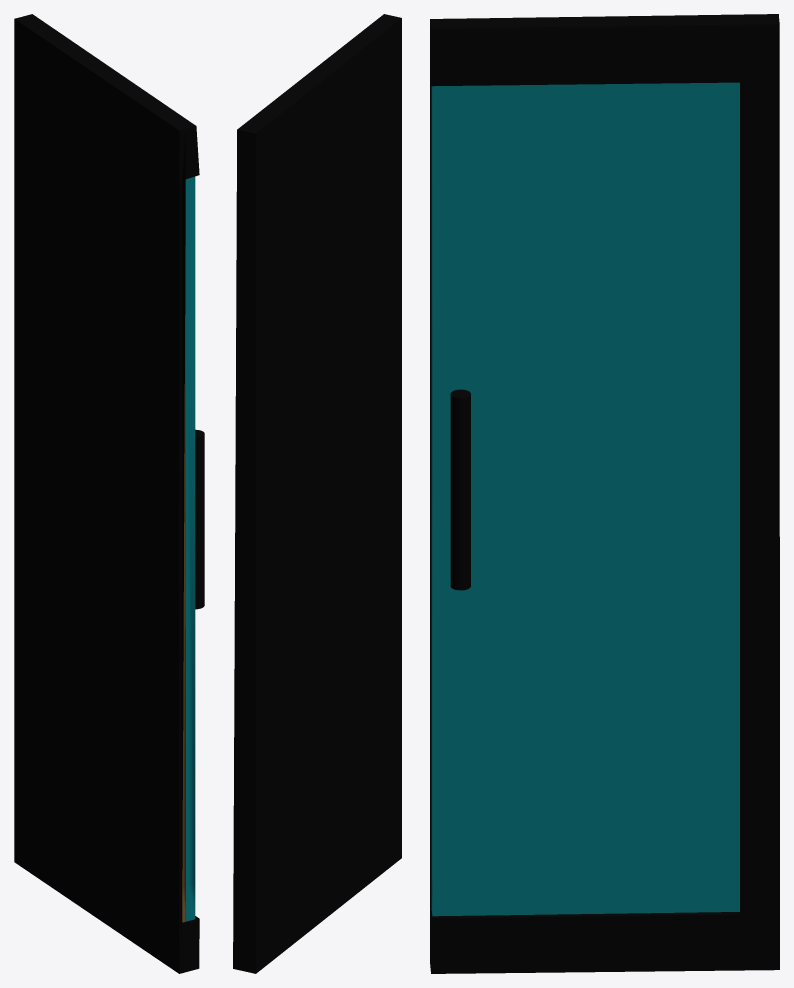
The model's file is Right_InfinityMirror_Door.fbx.
The picture shows the model from 3 angles, left to right: view 1: azimuth 30°, elevation 25°; view 2: azimuth 150°, elevation 25°; view 3: azimuth 270°, elevation 25°; orthographic projection. The views are drawn at different scales.
Parts seen in each view (by area): view 1: polySurface1010; view 2: polySurface1010; view 3: polySurface1010.
Boxes of the visible parts, box(x1,y1,x2,y2) form: polySurface1010: box(14, 14, 204, 973); polySurface1010: box(233, 14, 401, 973); polySurface1010: box(430, 14, 779, 973).
Bounding box in the file's own units: 3.43 × 58.67 × 19.71.
